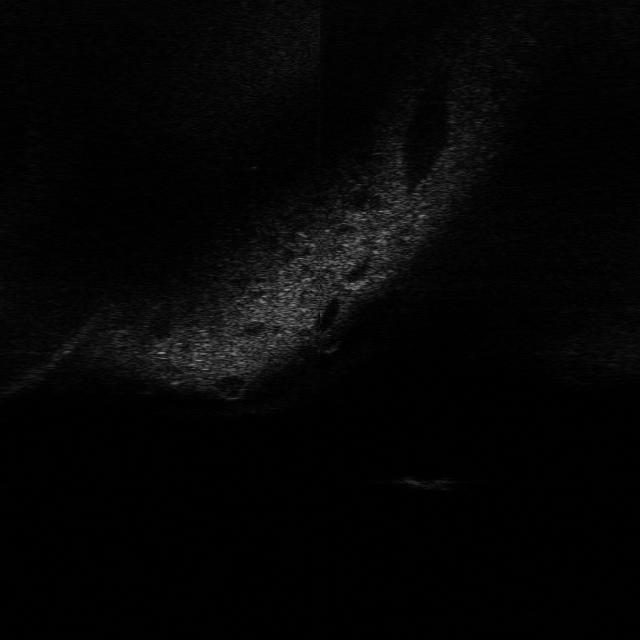ball: (311, 333, 343, 356)
cube: (388, 470, 463, 493)
